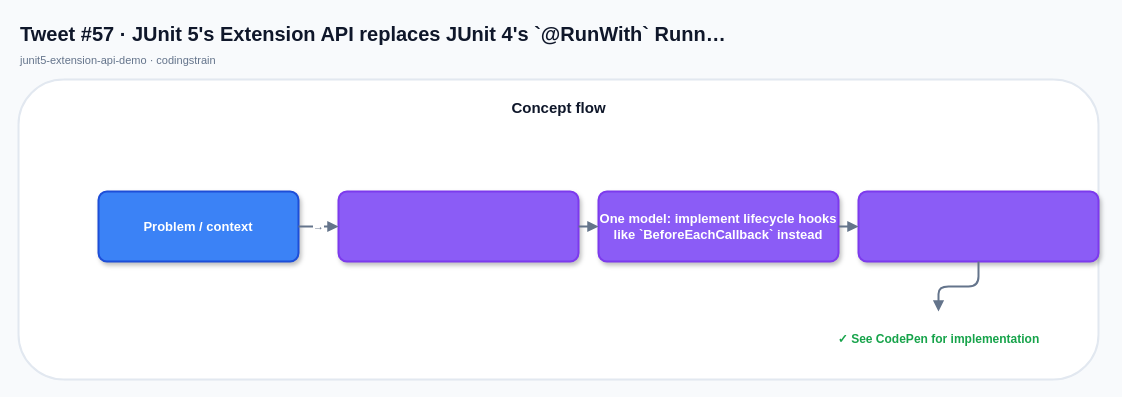
This 1122x397 diagram has some shape labels left out. Each missing label, with the centre of its shape:
`ParameterResolver` injects test dependencies — no base-class inherita: [979,227]
💡 JUnit 5's Extension API replaces JUnit 4's `@RunWith` Runner and `@R: [459,227]
